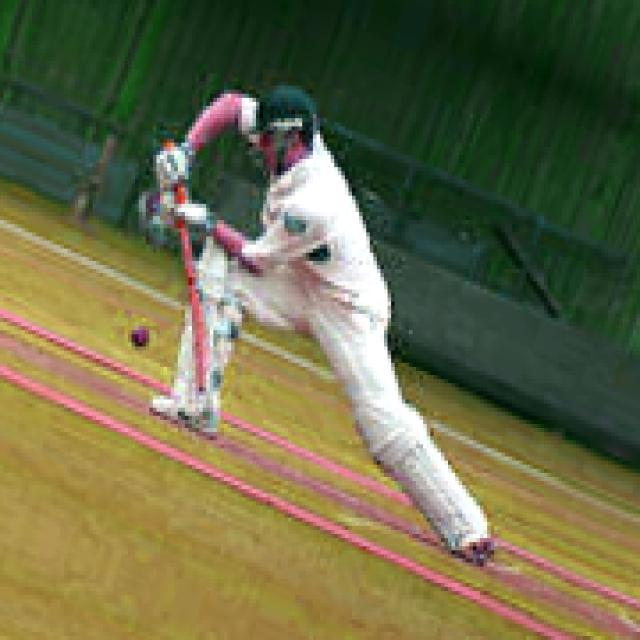toe: (186, 342, 216, 397)
